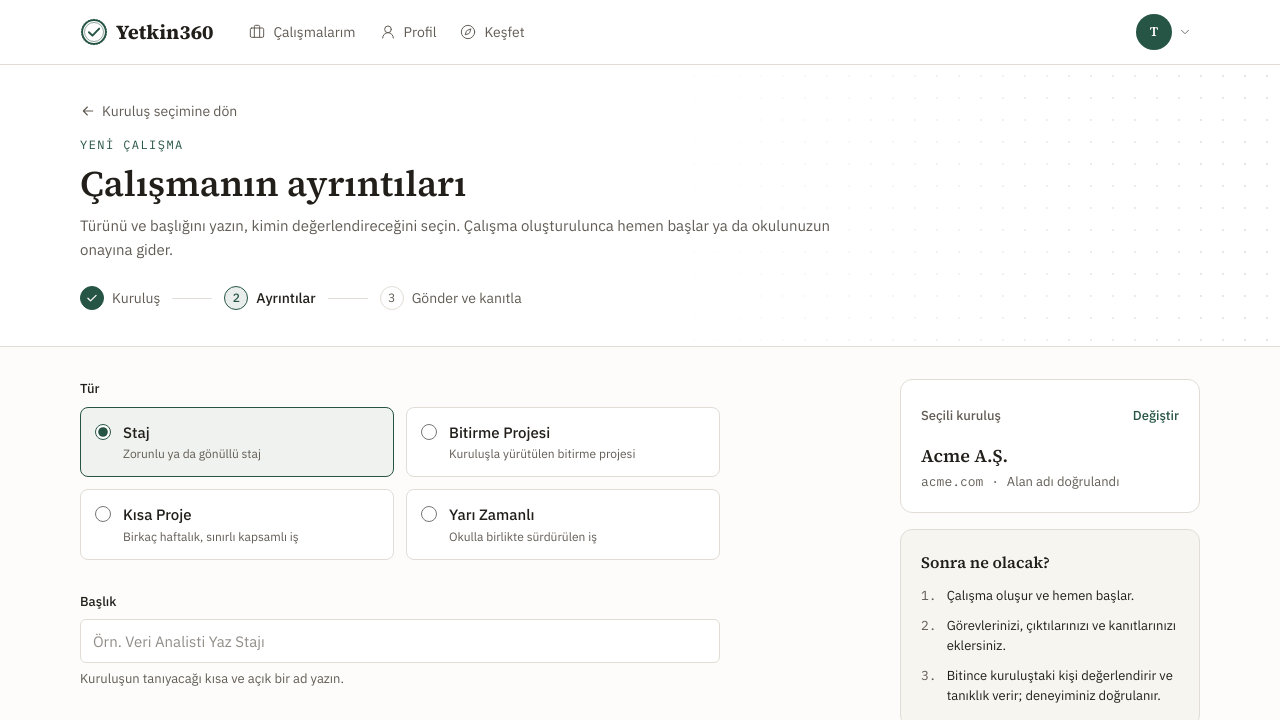
Test: CalismaOlusturPage (/calismalar/olustur) › diğer hatalarda jenerik mesaj gösterilir
Step 1. Type "x" into the field labelled "Başlık" → [400, 641], box left=80, top=619, right=720, bottom=663
(page scrolled)
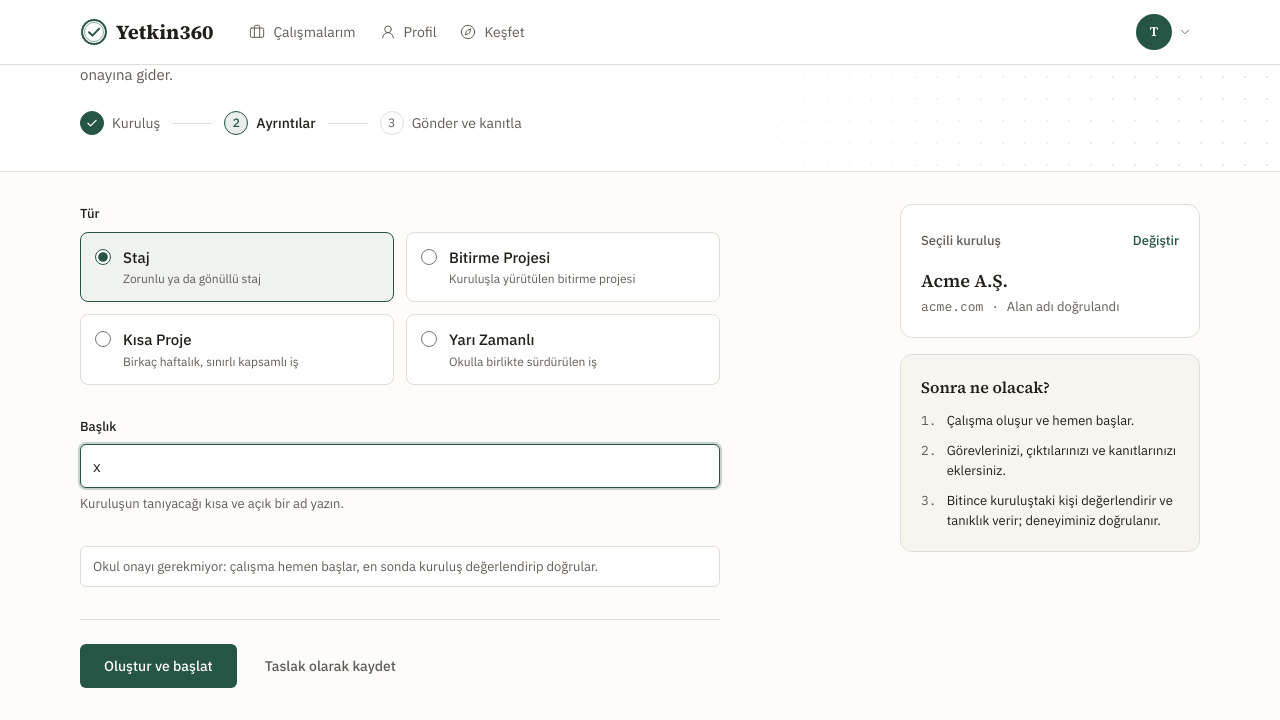
Step 2. Click the button "Oluştur ve başlat" → [158, 666], box left=80, top=644, right=237, bottom=688
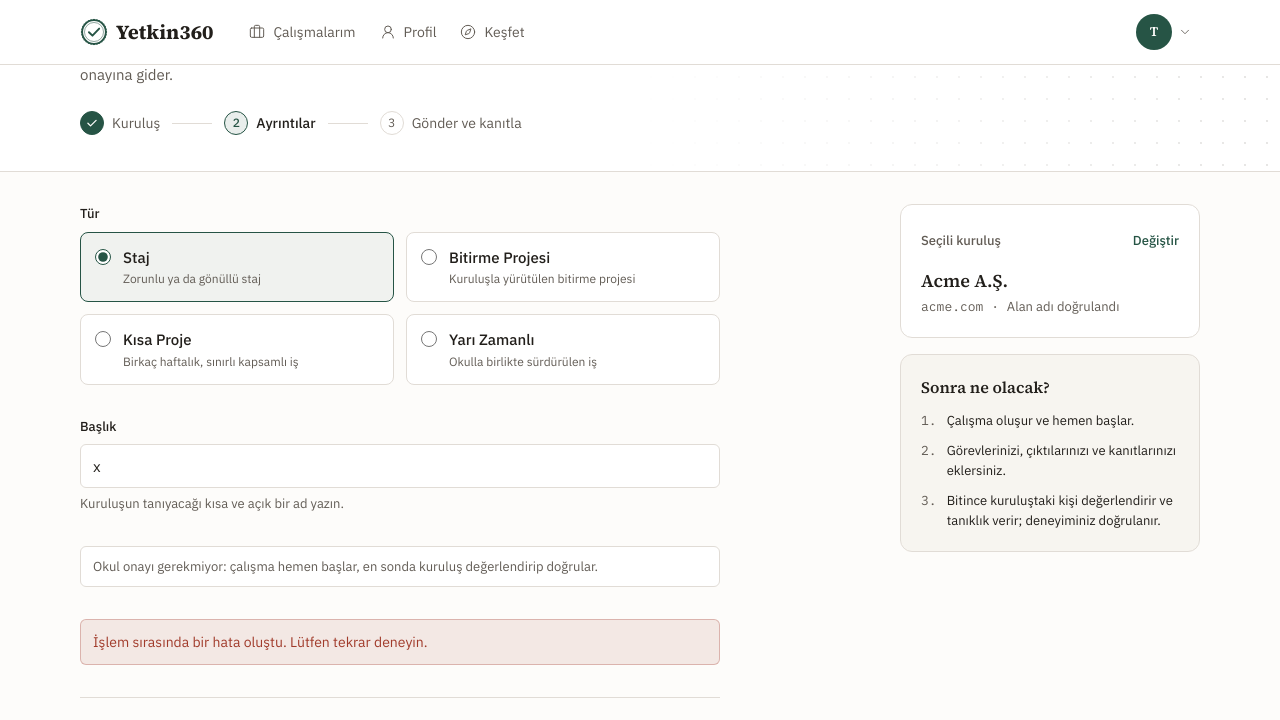
Now the text "İşlem sırasında bir hata oluştu. Lütfen tekrar deneyin." is shown, box left=80, top=619, right=720, bottom=665
